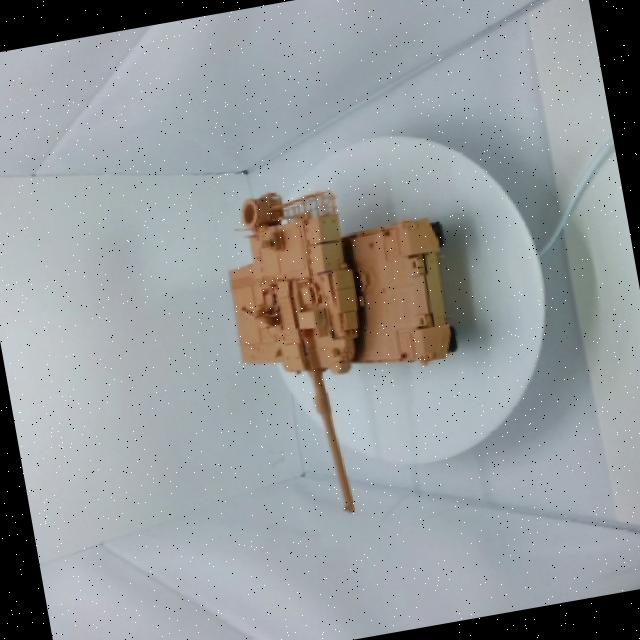korea tank: (165, 124, 522, 548)
